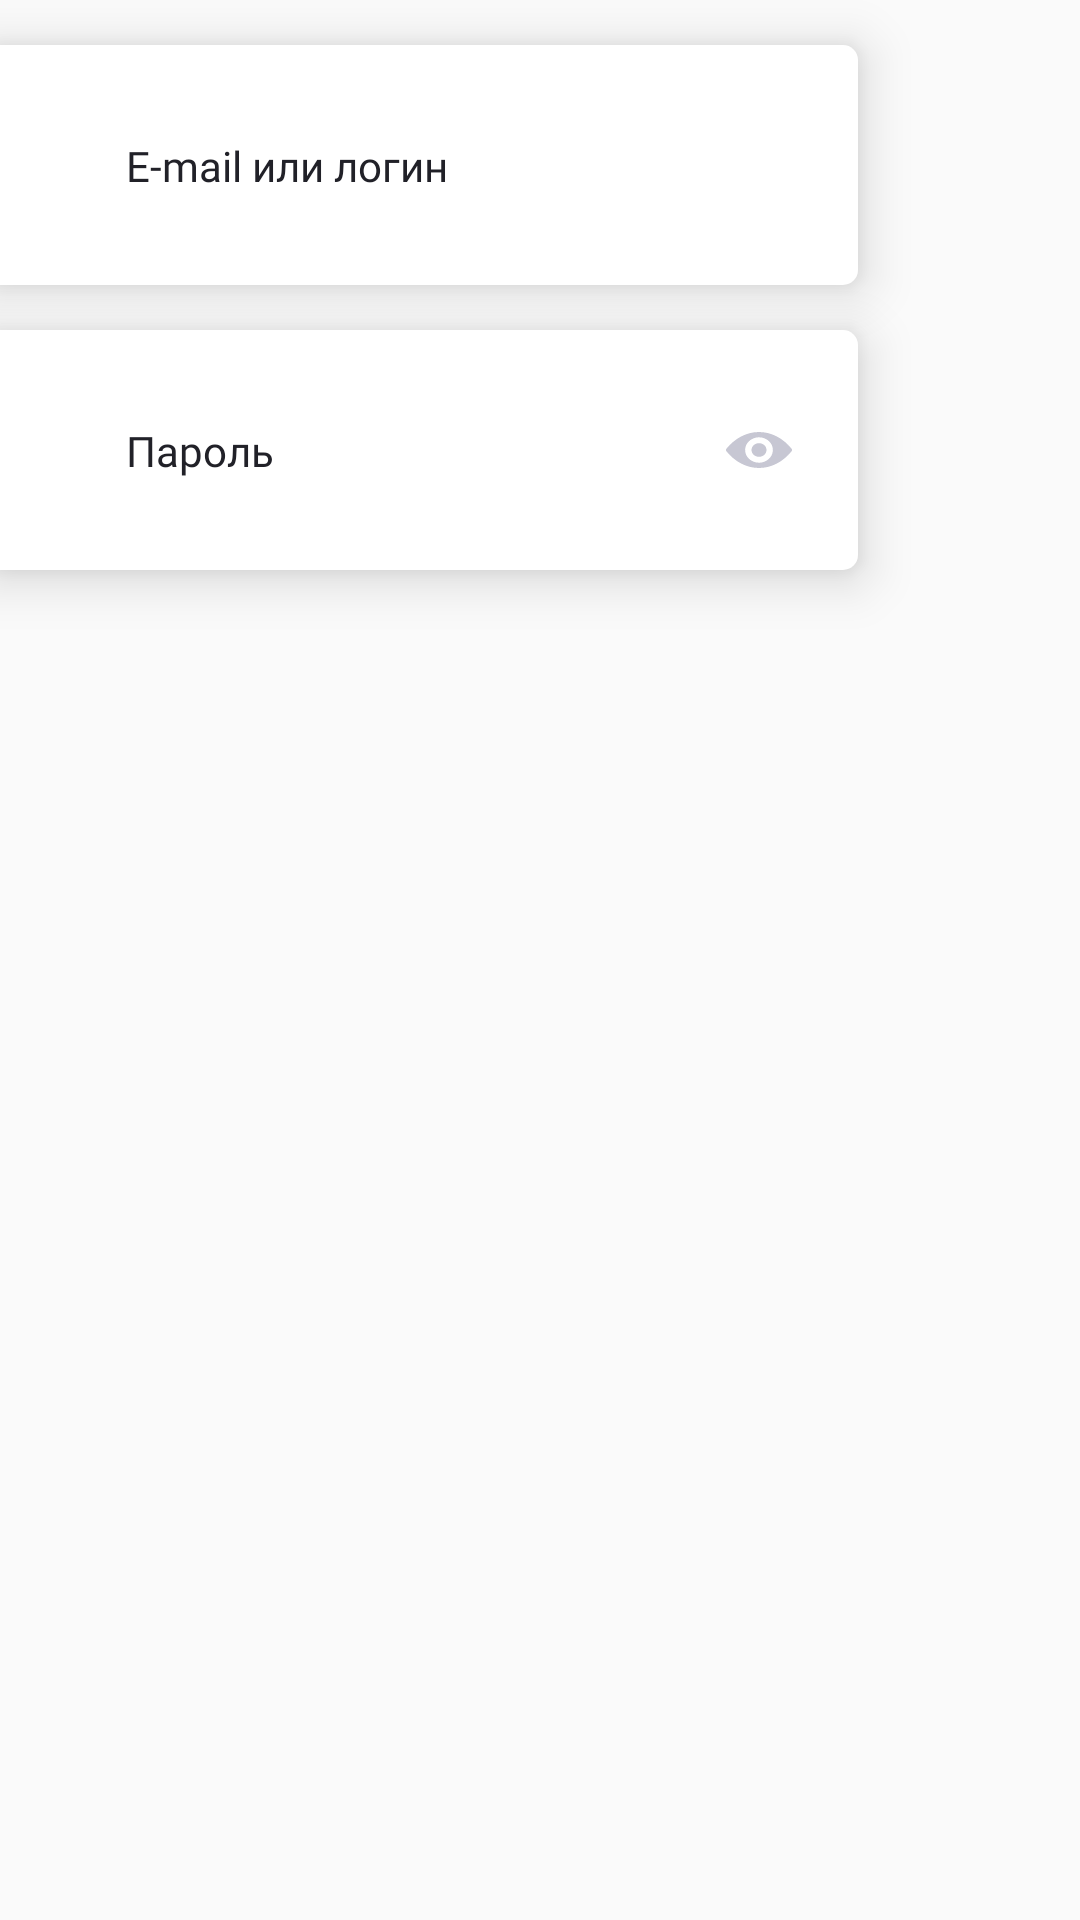

Icon click points for this 1080px×1920px phone screenshot, format (x,y):
aye: (759,450)
